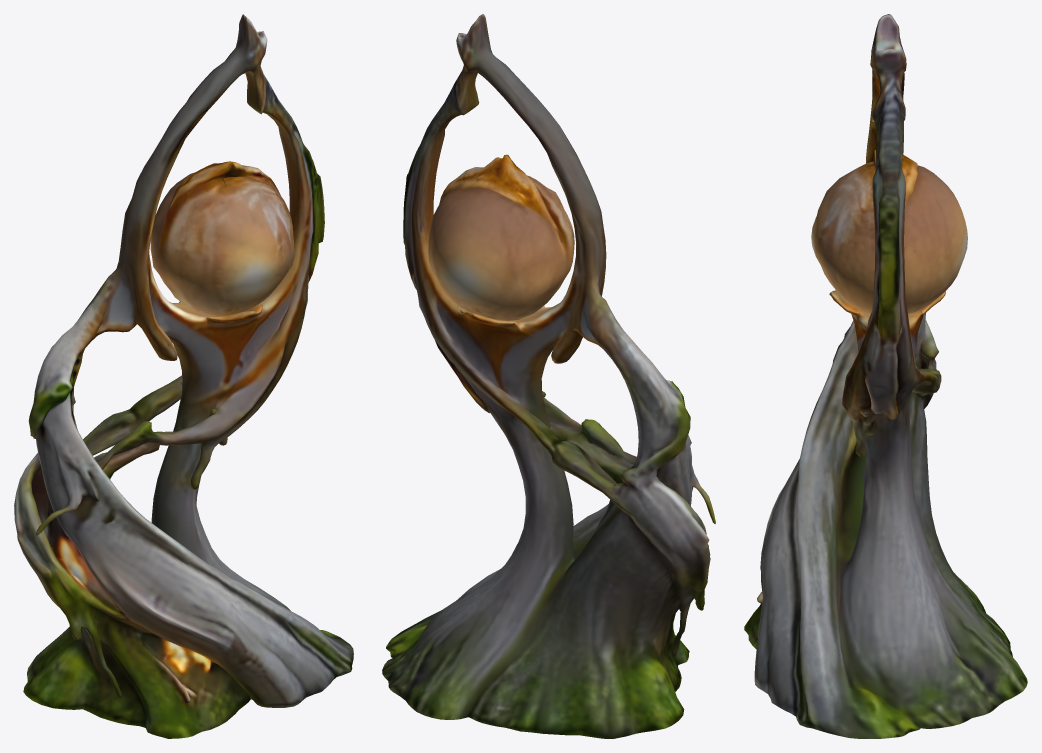
File: spire_orb_holder_lowp.glb
3 views of the same model, side by side, from view 1: azimuth 30°, elevation 25°; view 2: azimuth 150°, elevation 25°; view 3: azimuth 270°, elevation 25° (orthographic). The views are drawn at different scales.
Visible parts, largest first — view 1: geometry_0; view 2: geometry_0; view 3: geometry_0.
Boxes of the visible parts, <box> form: geometry_0: <box>14,14,353,738</box>; geometry_0: <box>382,14,715,738</box>; geometry_0: <box>744,14,1027,738</box>.
Bounding box in the file's own units: 0.4941 × 0.9526 × 0.3613.
Materials: 1 (1 with a texture image).
